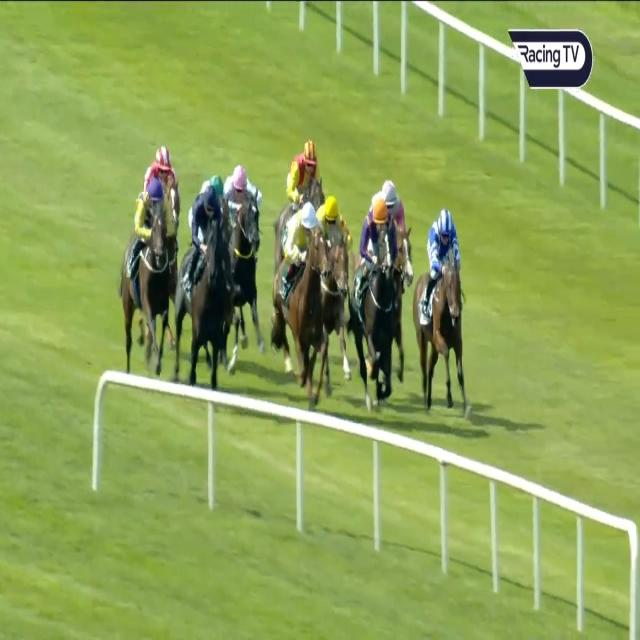horses-racing: (412, 206, 476, 414), (219, 152, 270, 372), (274, 202, 326, 397), (120, 184, 171, 375), (183, 181, 228, 391), (358, 200, 397, 409), (317, 190, 356, 349), (370, 174, 412, 274), (288, 132, 326, 222), (144, 138, 182, 220), (202, 161, 235, 231)
